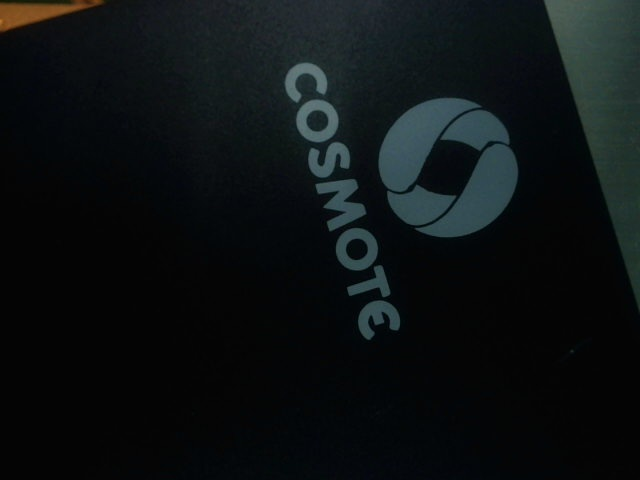AU_COSMOTE: (261, 54, 534, 346)
